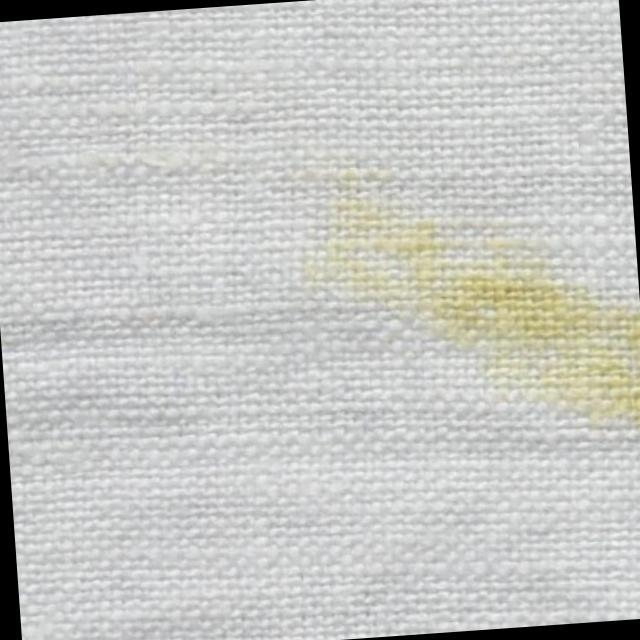Stain: (293, 134, 640, 461)
